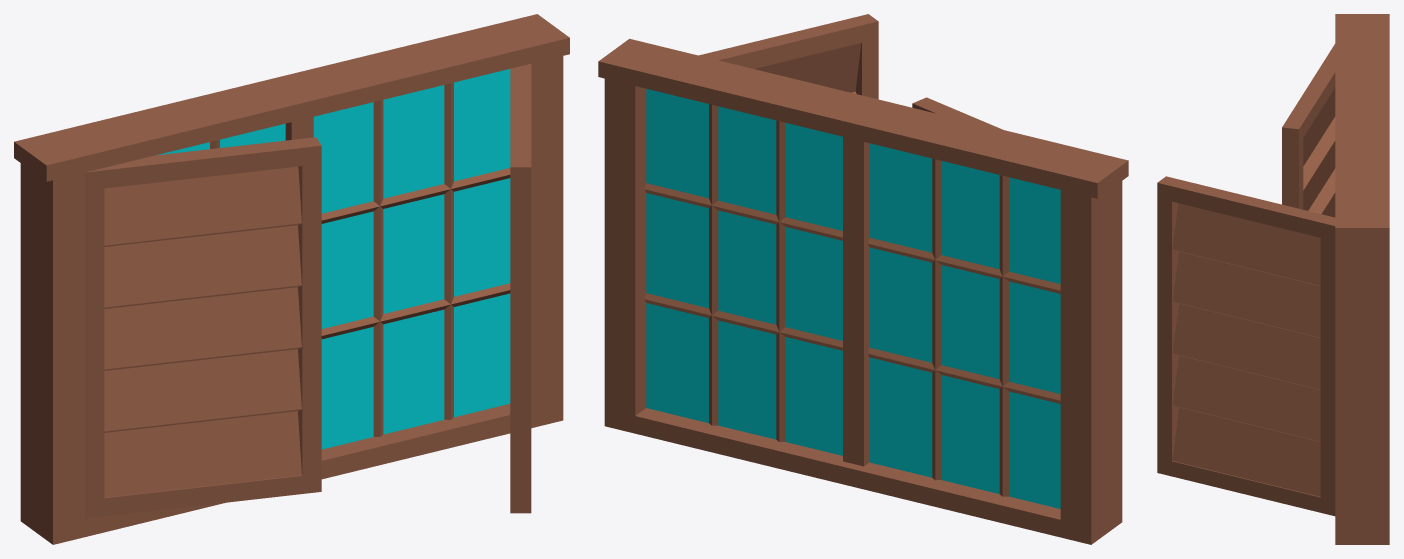
Rendered from LightWoodBuildingSmallChaletWindowwShutters1.fbx.
3 views of the same model, side by side, from view 1: azimuth 30°, elevation 25°; view 2: azimuth 150°, elevation 25°; view 3: azimuth 270°, elevation 25° (orthographic). The views are drawn at different scales.
Visible parts, largest first — view 1: LightWoodBuildingSmallChaletWindowwShutters1, ShutterL, ShutterR; view 2: LightWoodBuildingSmallChaletWindowwShutters1, ShutterR, ShutterL; view 3: ShutterR, LightWoodBuildingSmallChaletWindowwShutters1, ShutterL.
Part boxes in pixels (x1,y1,x2,y2): LightWoodBuildingSmallChaletWindowwShutters1: (14,14,569,544); ShutterL: (85,137,321,518); ShutterR: (510,64,531,513); LightWoodBuildingSmallChaletWindowwShutters1: (598,38,1128,544); ShutterR: (698,14,878,99); ShutterL: (912,97,1002,129); ShutterR: (1157,176,1335,516); LightWoodBuildingSmallChaletWindowwShutters1: (1335,14,1389,544); ShutterL: (1282,44,1335,217).
Bounding box in the file's own units: 332 × 231 × 152.
